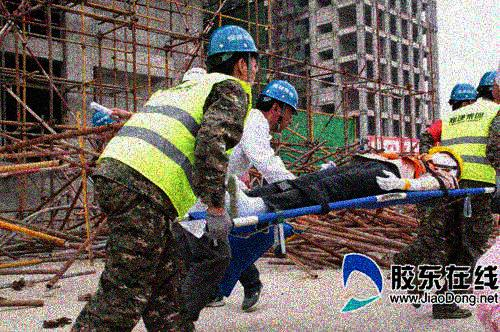helmet: (207, 24, 261, 89), (257, 78, 299, 135), (91, 109, 118, 143), (449, 81, 479, 110), (477, 70, 498, 102)
